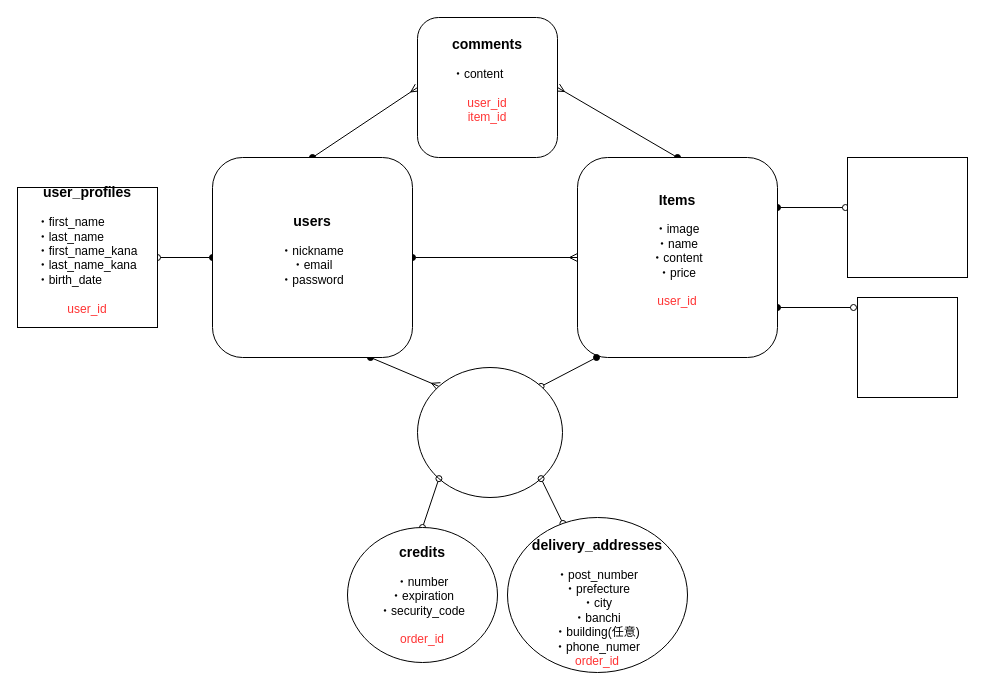
This 985x690 diagram has some shape labels left out. The centre of each missing label's shape, as x and y in pixels:
delivery_profiles ・fee ・day_by ・region item_id: the point at 907,217
item_profiles ・category ・status item_id: the point at 907,347
oders user_id item_id: the point at 489,432
